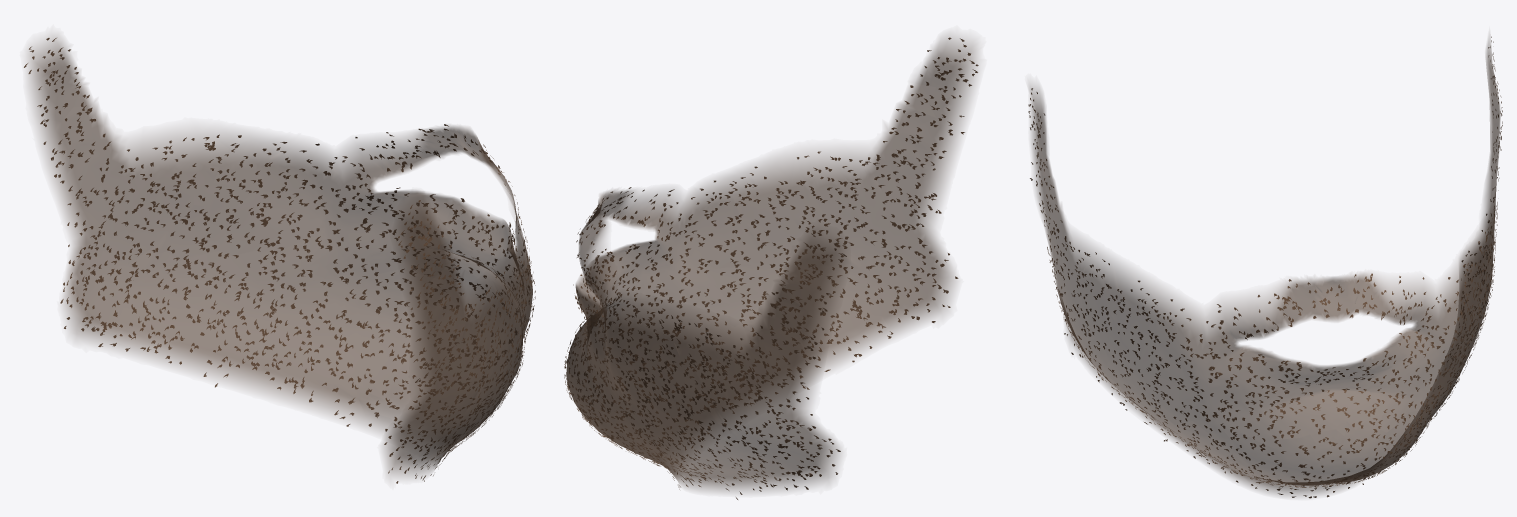
Rendered from beard-m4-stubble.glb.
The picture shows the model from 3 angles, left to right: view 1: azimuth 30°, elevation 25°; view 2: azimuth 150°, elevation 25°; view 3: azimuth 270°, elevation 25°; orthographic projection. The views are drawn at different scales.
Visible parts, largest first — view 1: Beard_m4_stubble_root, Beard_m4_stubble_cards; view 2: Beard_m4_stubble_root, Beard_m4_stubble_cards; view 3: Beard_m4_stubble_root, Beard_m4_stubble_cards.
Part boxes in pixels (x1=…): Beard_m4_stubble_root: x1=28, y1=35, x2=532, y2=477; Beard_m4_stubble_cards: x1=24, y1=38, x2=535, y2=483; Beard_m4_stubble_root: x1=566, y1=35, x2=977, y2=492; Beard_m4_stubble_cards: x1=564, y1=37, x2=978, y2=499; Beard_m4_stubble_root: x1=1029, y1=36, x2=1500, y2=496; Beard_m4_stubble_cards: x1=1028, y1=36, x2=1502, y2=498.
Size of the model in its own units: 0.1368 by 0.139 by 0.1604.
Materials: 2 (1 with a texture image).
